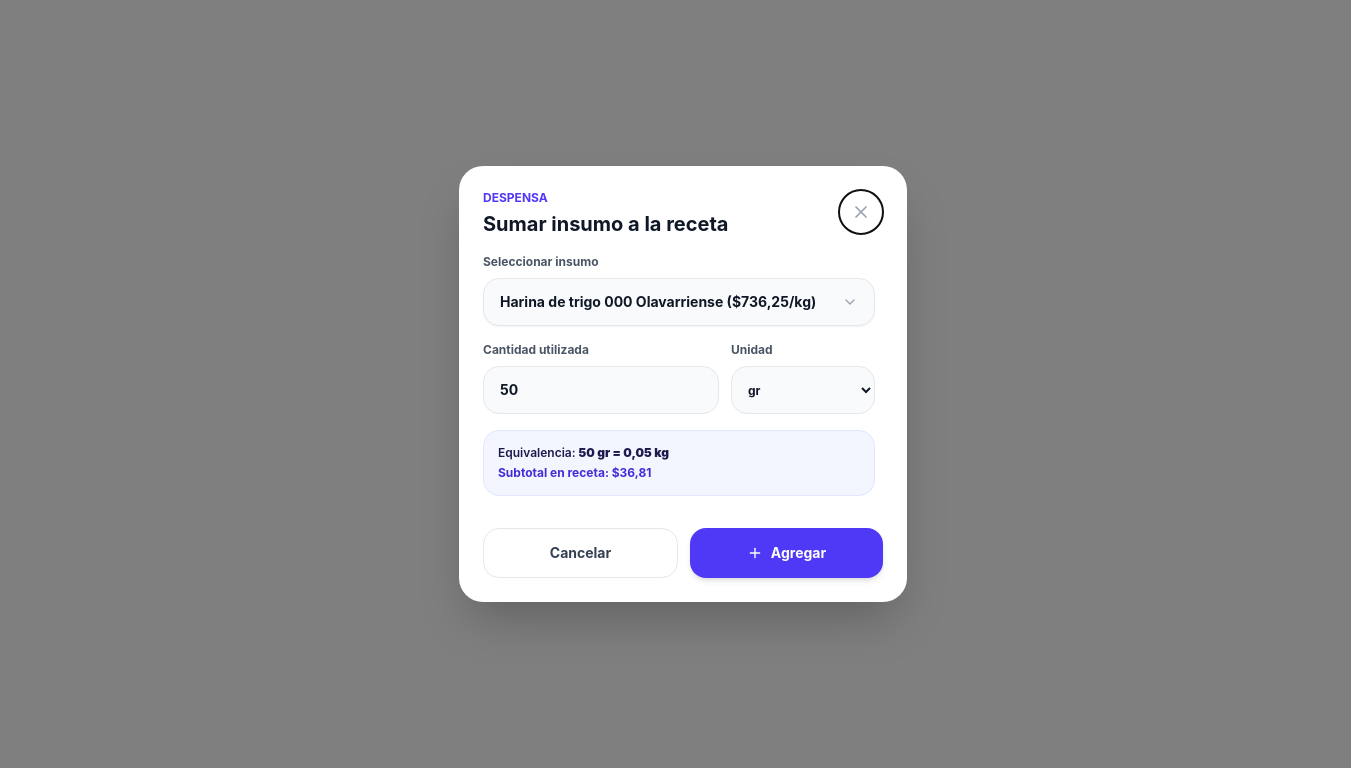
Test: ProductAddIngredientModal - búsqueda en la API (#350) › busca "sesamo" en la API y suma el insumo elegido aunque no esté en la despensa cargada
This screenshot has width=1366, height=768.
Later steps or results of the test are not shown.
Click the dropdown named "Seleccionar insumo" at (679, 302), box [483, 278, 875, 326]
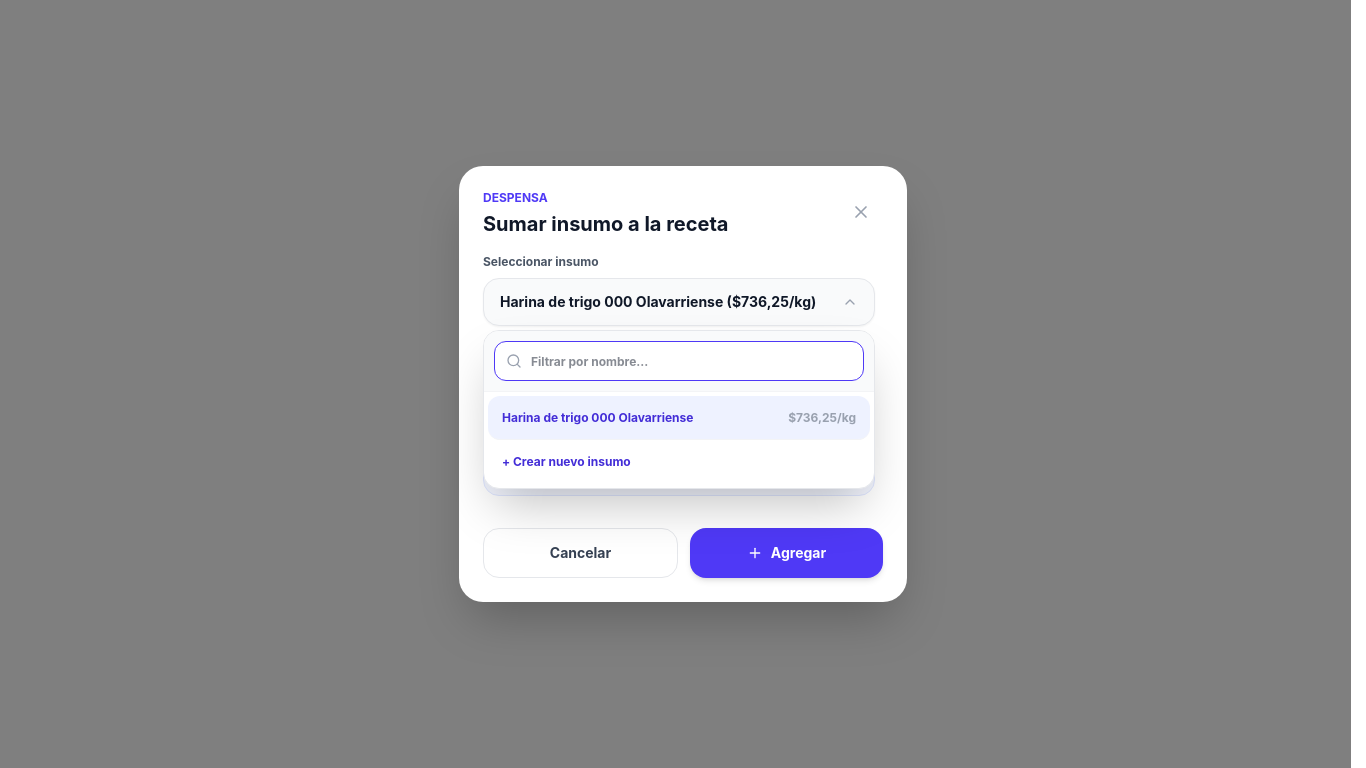
Type "sesamo" into the dropdown with placeholder "Filtrar por nombre..." at (679, 361), box [494, 341, 864, 381]
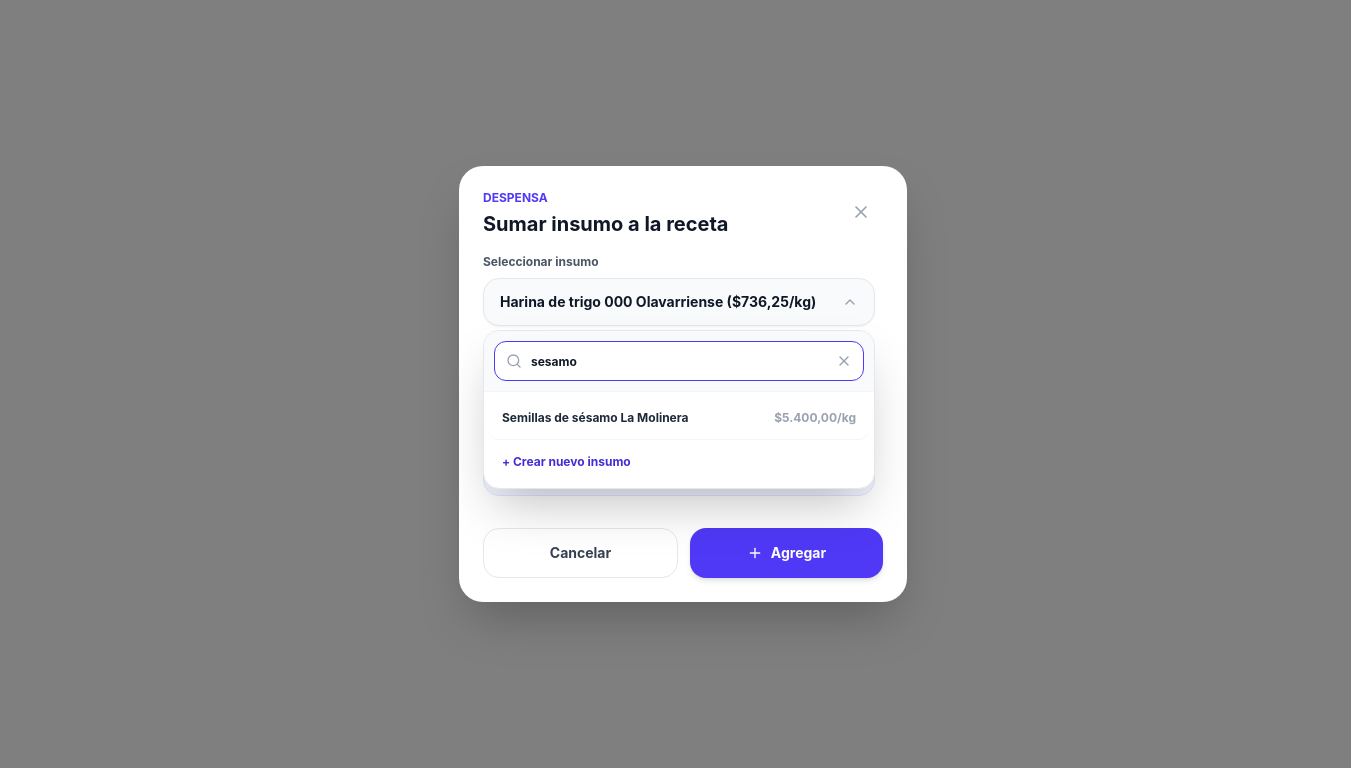
Click the option "Semillas de sésamo La Molinera $5.400,00/kg" at (679, 418), box [488, 396, 870, 440]
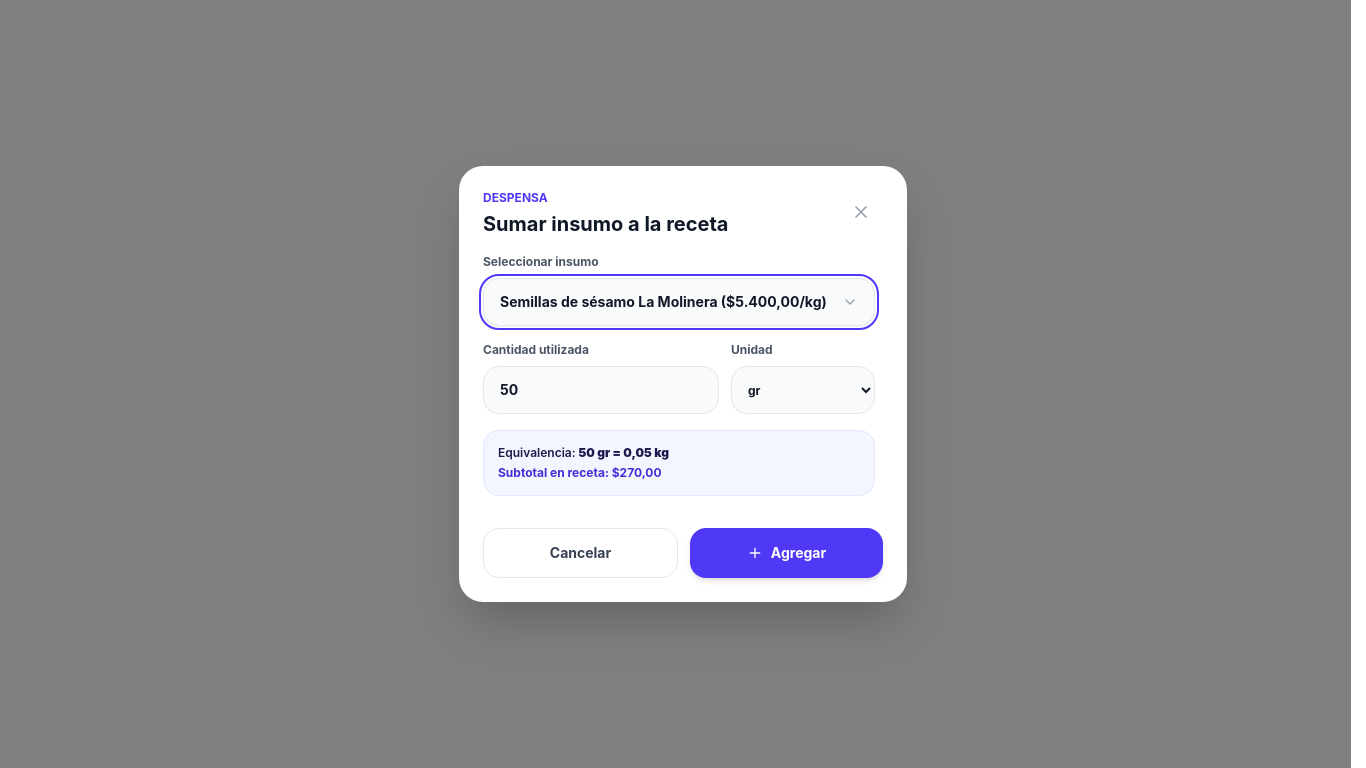
Check: the text "Semillas de sésamo La Molinera ($5.400,00/kg)" is shown, box [500, 292, 827, 312]
